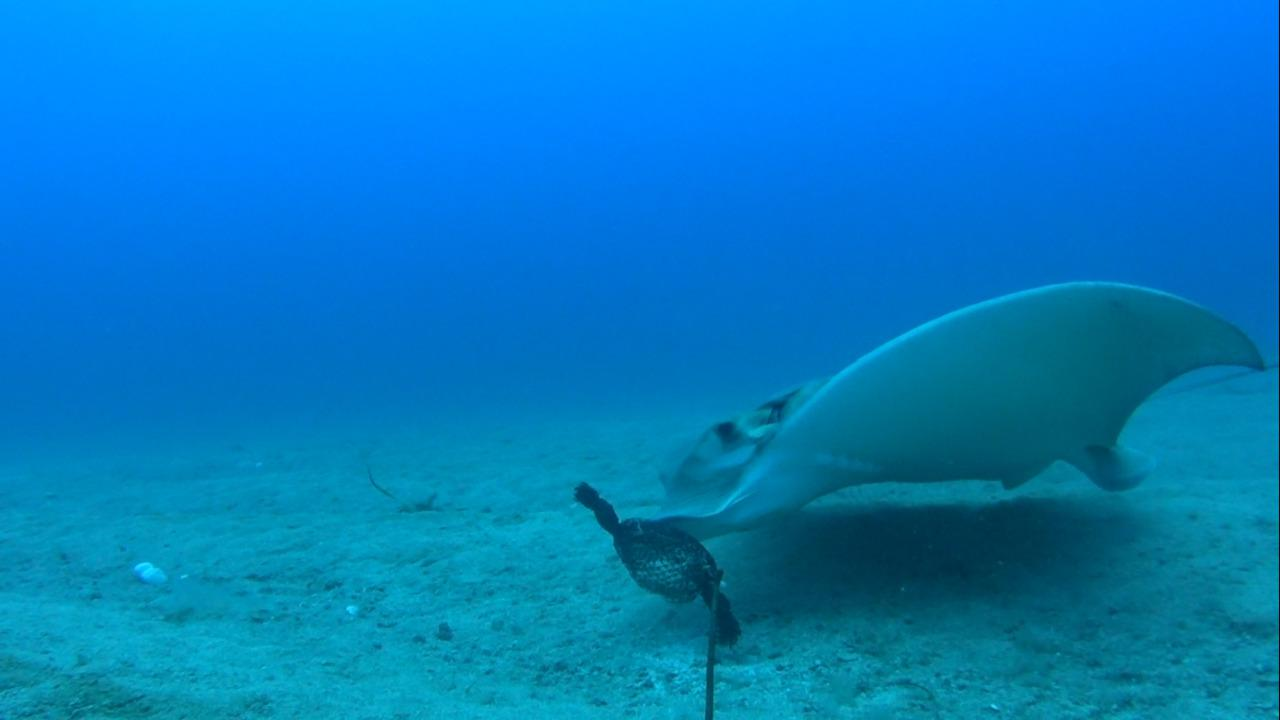myliobatis: (614, 272, 1279, 544)
